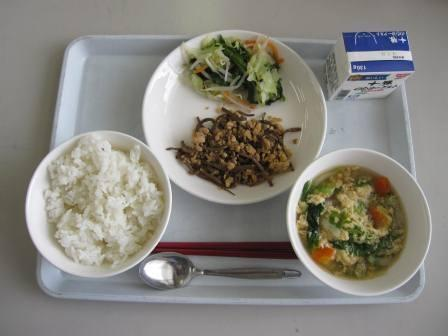Rice: (17, 138, 171, 266)
cooked food based on meat: (166, 108, 302, 195)
salad with sauce: (181, 33, 284, 110)
vegetable soup: (285, 158, 428, 288)
